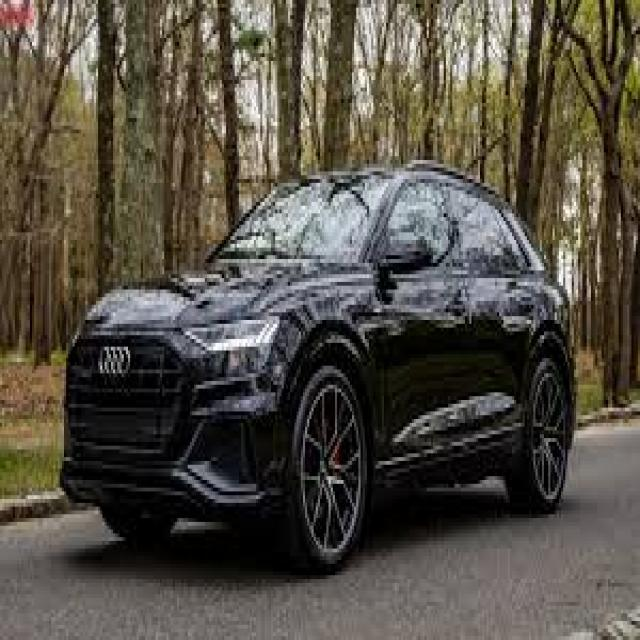SUV: (65, 155, 584, 563)
